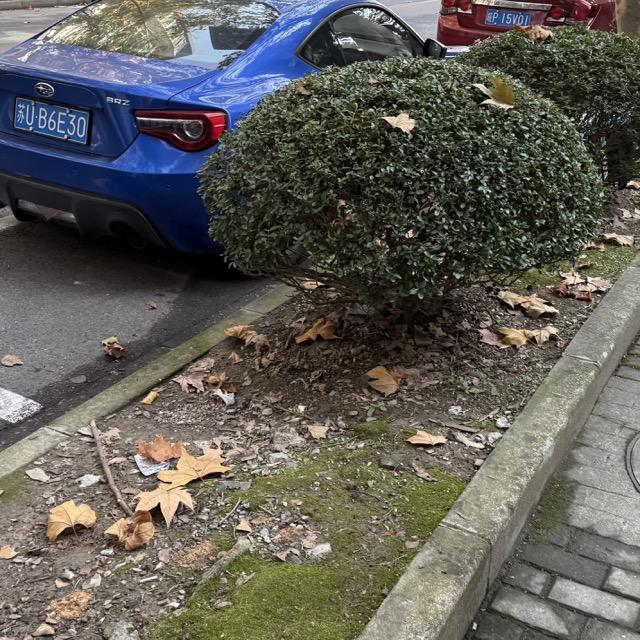curb: (358, 259, 639, 639), (0, 287, 290, 494)
